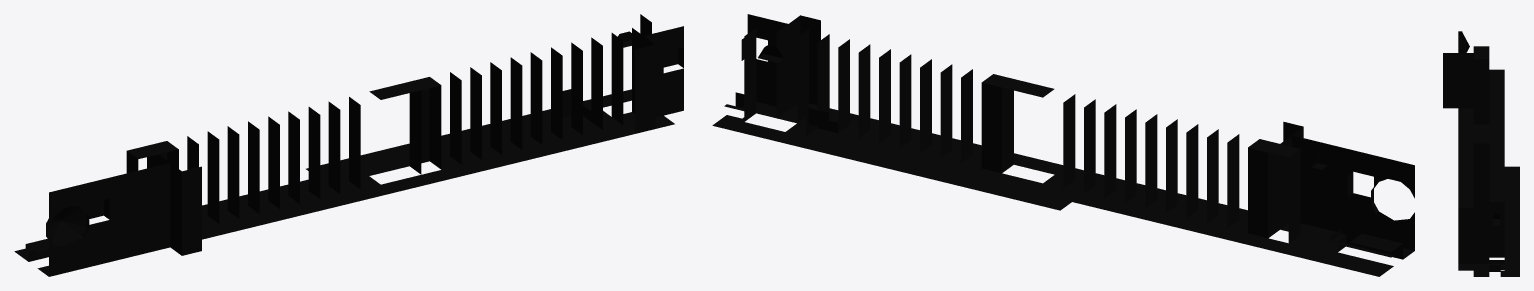
Rendered from catalog.obj.
3 views of the same model, side by side, from view 1: azimuth 30°, elevation 25°; view 2: azimuth 150°, elevation 25°; view 3: azimuth 270°, elevation 25° (orthographic). The views are drawn at different scales.
Parts seen in each view (by area): view 1: cell_26_0, cell_1_1, cell_30_0, cell_12_1, cell_28_0, cell_27_0, cell_0_1, cell_29_0, cell_31_0, cell_7_1, cell_21_1, cell_8_1 (+20 smaller); view 2: cell_1_1, cell_25_1, cell_26_0, cell_12_1, cell_27_0, cell_28_0, cell_29_0, cell_26_1, cell_21_1, cell_23_1, cell_15_1, cell_17_1 (+24 smaller); view 3: cell_1_1, cell_26_0, cell_2_2, cell_2_1, cell_0_1, cell_12_1, cell_0_2, cell_15_1, cell_17_1, cell_19_1, cell_21_1, cell_12_0 (+75 smaller).
Boxes of the visible parts, x1,y1,x2,y2 form: cell_26_0: [150, 154, 201, 255]; cell_1_1: [632, 28, 663, 133]; cell_30_0: [60, 182, 89, 271]; cell_12_1: [410, 77, 441, 169]; cell_28_0: [109, 172, 129, 261]; cell_27_0: [130, 168, 149, 256]; cell_0_1: [663, 26, 683, 115]; cell_29_0: [89, 177, 109, 266]; cell_31_0: [37, 187, 69, 276]; cell_7_1: [522, 52, 542, 149]; cell_21_1: [227, 126, 259, 218]; cell_8_1: [502, 57, 522, 154]; cell_1_1: [756, 15, 820, 118]; cell_25_1: [1248, 139, 1280, 238]; cell_26_0: [1280, 121, 1312, 234]; cell_12_1: [981, 74, 1013, 173]; cell_27_0: [1301, 140, 1332, 239]; cell_28_0: [1321, 145, 1353, 241]; cell_29_0: [1347, 150, 1373, 236]; cell_26_1: [1268, 144, 1300, 242]; cell_21_1: [1166, 124, 1198, 218]; cell_23_1: [1207, 134, 1239, 228]; cell_15_1: [1043, 94, 1075, 188]; cell_17_1: [1084, 104, 1116, 198]; cell_1_1: [1458, 208, 1489, 270]; cell_26_0: [1443, 53, 1473, 108]; cell_2_2: [1489, 202, 1504, 257]; cell_2_1: [1473, 208, 1489, 263]; cell_0_1: [1473, 228, 1489, 276]; cell_12_1: [1473, 137, 1489, 149]; cell_0_2: [1489, 260, 1504, 276]; cell_15_1: [1473, 117, 1489, 124]; cell_17_1: [1473, 104, 1489, 111]; cell_19_1: [1473, 91, 1489, 98]; cell_21_1: [1473, 78, 1489, 85]; cell_12_0: [1458, 192, 1473, 199].
Bounding box in the file's own units: 0.5 × 0.0625 × 0.0781.
Materials: 43 (43 with a texture image).
